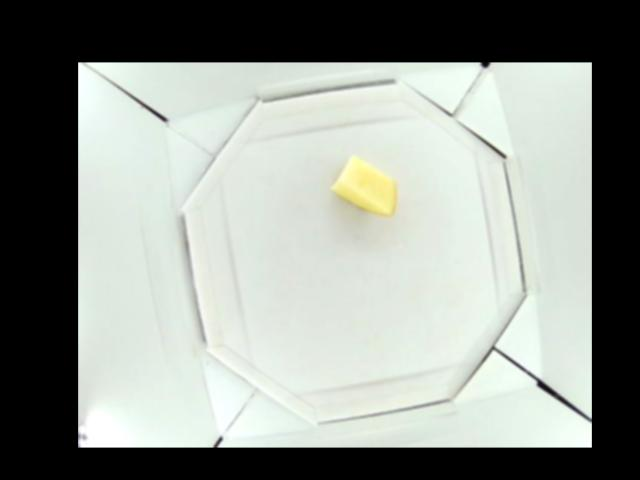Potato: (333, 157, 400, 216)
